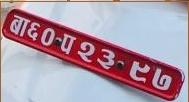0: (40, 28, 54, 45)
2: (78, 41, 94, 61)
3: (98, 49, 114, 68)
6: (29, 22, 39, 39)
7: (151, 67, 171, 90)
9: (130, 61, 149, 82)
ba: (9, 14, 30, 38)
pa: (61, 32, 76, 56)
